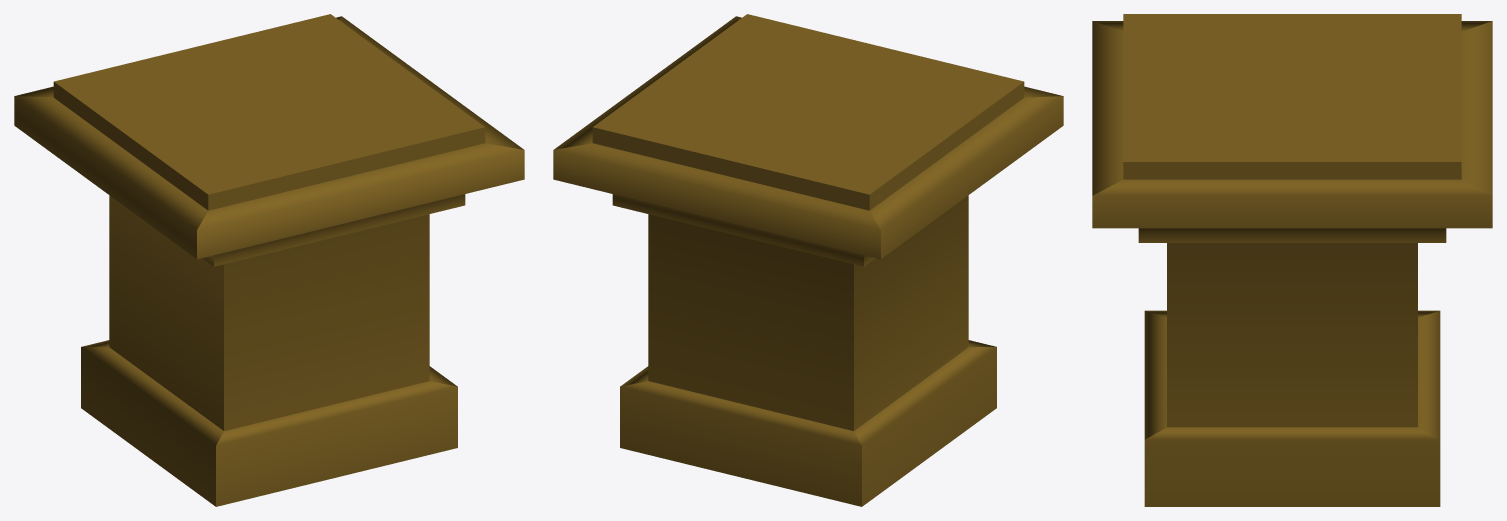
Rendered from goldstand.fbx.
The picture shows the model from 3 angles, left to right: view 1: azimuth 30°, elevation 25°; view 2: azimuth 150°, elevation 25°; view 3: azimuth 270°, elevation 25°; orthographic projection. The views are drawn at different scales.
Visible parts, largest first — view 1: pCube1; view 2: pCube1; view 3: pCube1.
Boxes of the visible parts, bbox=[...] form: pCube1: bbox=[14, 14, 524, 506]; pCube1: bbox=[553, 14, 1063, 506]; pCube1: bbox=[1092, 14, 1492, 506].
Bounding box in the file's own units: 25.6 × 24.17 × 24.75.
